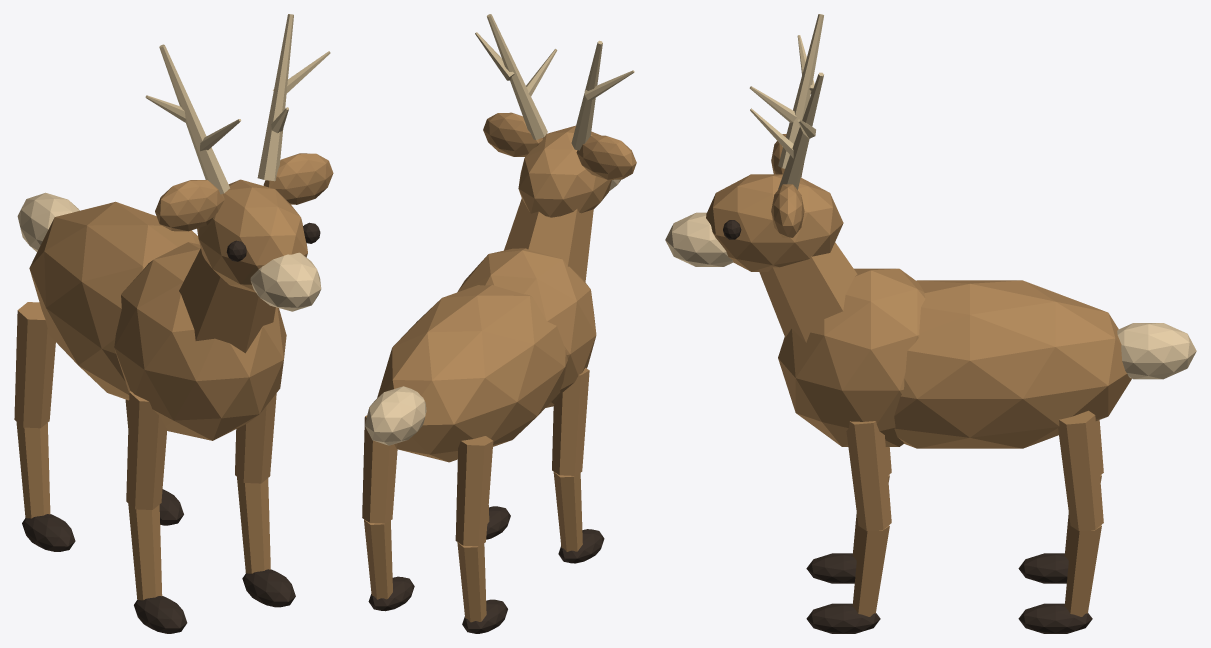
File: Deer.fbx
3 views of the same model, side by side, from view 1: azimuth 30°, elevation 25°; view 2: azimuth 150°, elevation 25°; view 3: azimuth 270°, elevation 25° (orthographic). The views are drawn at different scales.
Visible parts, largest first — view 1: Chest, Body, Head, Long neck, Upper leg.001, Upper leg, Muzzle, Ear, Lower leg.002, Lower leg.001, Lower leg, Upper leg.002 (+8 smaller); view 2: Body, Chest, Head, Long neck, Upper leg.001, Upper leg, Tail, Upper leg.003, Ear, Lower leg.001, Lower leg, Lower leg.003 (+9 smaller); view 3: Body, Chest, Head, Long neck, Upper leg.003, Upper leg.002, Tail, Muzzle, Lower leg.003, Lower leg.002, Foot.002, Foot.003 (+5 smaller).
Part boxes in pixels (bbox=[...]): Chest: bbox=[114, 242, 286, 440]; Body: bbox=[29, 201, 199, 400]; Head: bbox=[197, 179, 307, 292]; Long neck: bbox=[179, 248, 275, 353]; Upper leg.001: bbox=[14, 302, 55, 428]; Upper leg: bbox=[126, 391, 167, 509]; Muzzle: bbox=[250, 252, 321, 311]; Ear: bbox=[155, 180, 224, 231]; Lower leg.002: bbox=[237, 477, 270, 573]; Lower leg.001: bbox=[16, 421, 50, 518]; Lower leg: bbox=[128, 503, 162, 600]; Upper leg.002: bbox=[235, 393, 276, 483]; Body: bbox=[377, 285, 567, 462]; Chest: bbox=[457, 248, 596, 407]; Head: bbox=[518, 125, 611, 217]; Long neck: bbox=[504, 198, 593, 282]; Upper leg.001: bbox=[455, 436, 493, 546]; Upper leg: bbox=[552, 368, 589, 475]; Tail: bbox=[365, 386, 426, 445]; Upper leg.003: bbox=[362, 415, 397, 523]; Ear: bbox=[576, 135, 636, 179]; Lower leg.001: bbox=[457, 542, 486, 622]; Lower leg: bbox=[553, 472, 582, 551]; Lower leg.003: bbox=[364, 519, 392, 599]; Body: bbox=[894, 280, 1131, 448]; Chest: bbox=[778, 268, 925, 446]; Head: bbox=[706, 174, 843, 271]; Long neck: bbox=[759, 242, 857, 342]; Upper leg.003: bbox=[1058, 410, 1103, 530]; Upper leg.002: bbox=[846, 421, 891, 530]; Tail: bbox=[1117, 323, 1196, 379]; Muzzle: bbox=[665, 212, 732, 266]; Lower leg.003: bbox=[1064, 525, 1101, 616]; Lower leg.002: bbox=[852, 525, 889, 616]; Foot.002: bbox=[806, 603, 880, 633]; Foot.003: bbox=[1018, 603, 1092, 633].
Size of the model in its own units: 0.5445 by 1.67 by 1.43.
